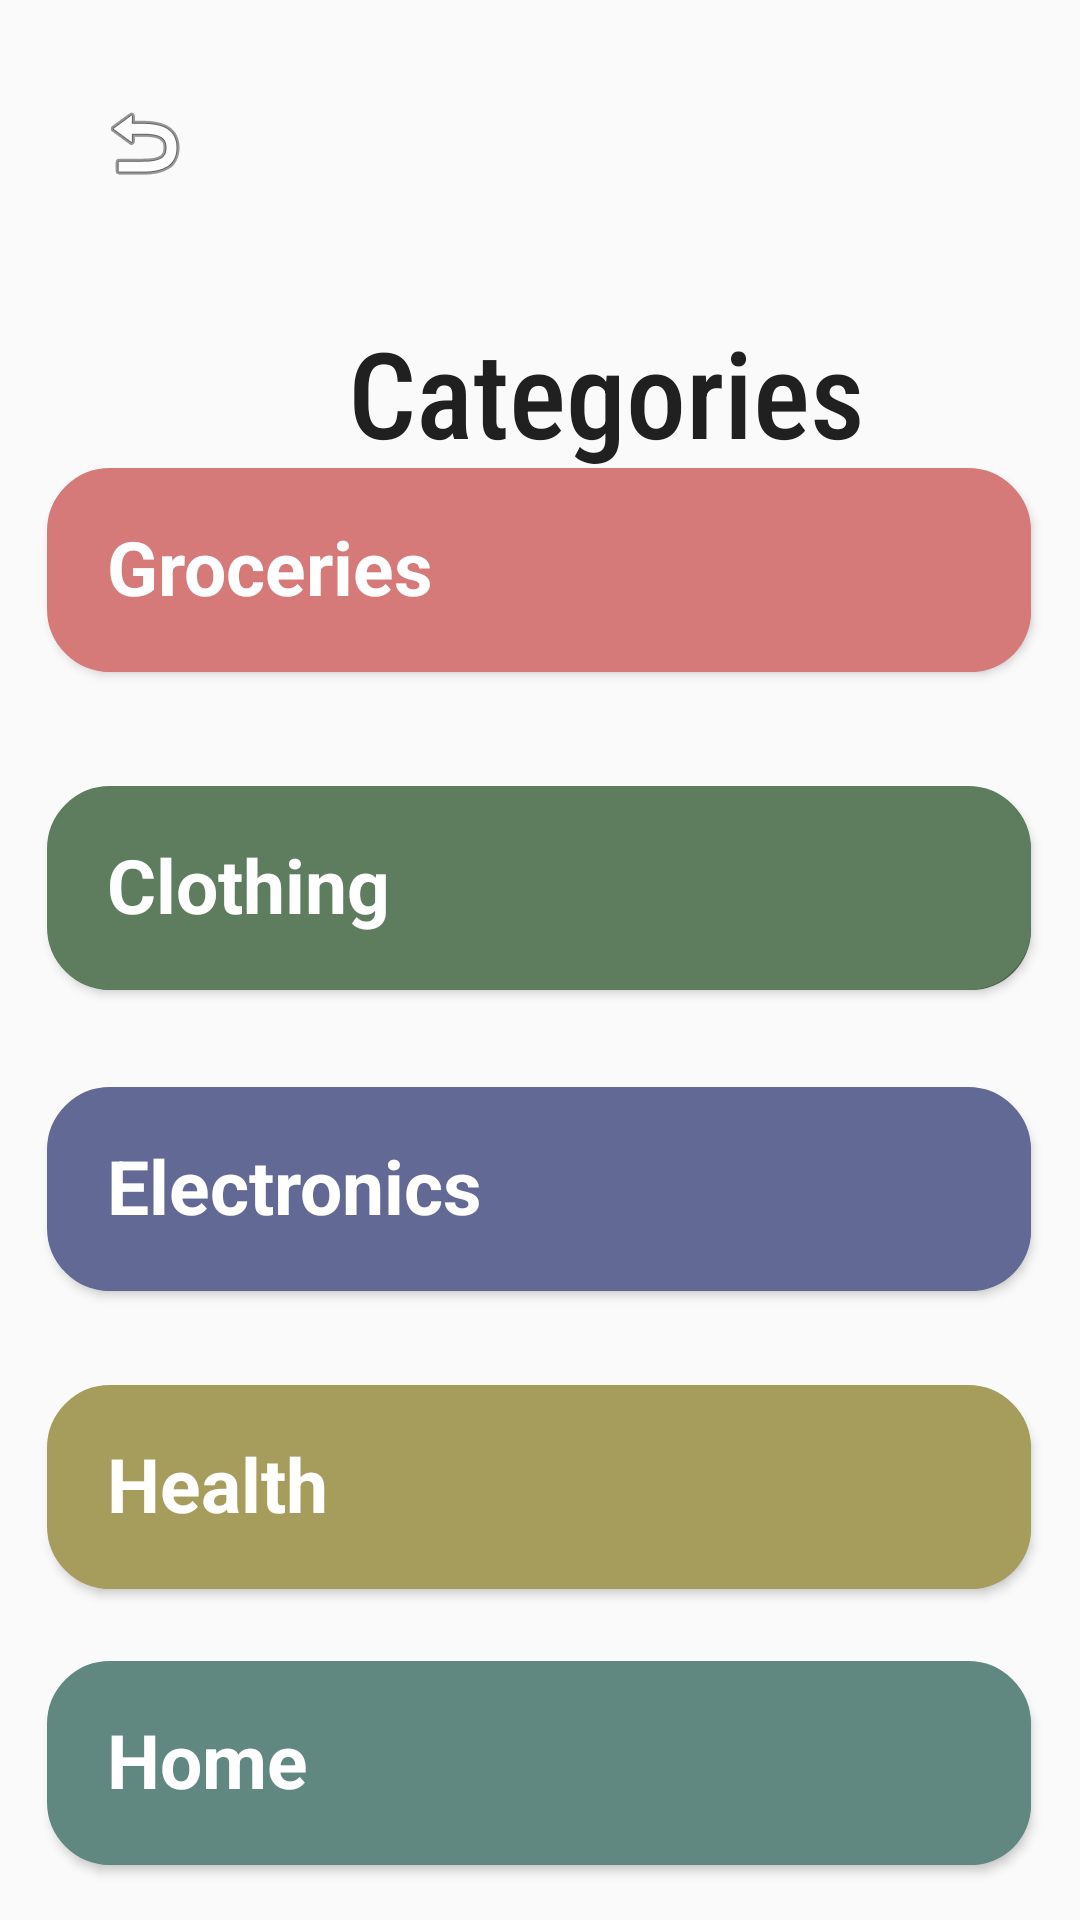

Icon click points for this 1080w x 1920h phone screenshot, format point (x, y):
revert: point (145, 143)
